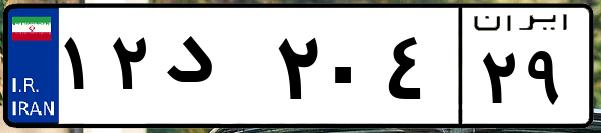0: (330, 28, 385, 110)
1: (57, 26, 110, 100)
2: (270, 28, 330, 110), (475, 38, 525, 113), (110, 28, 158, 98)
4: (385, 28, 445, 110)
9: (525, 38, 570, 115)
د: (158, 20, 270, 120)
